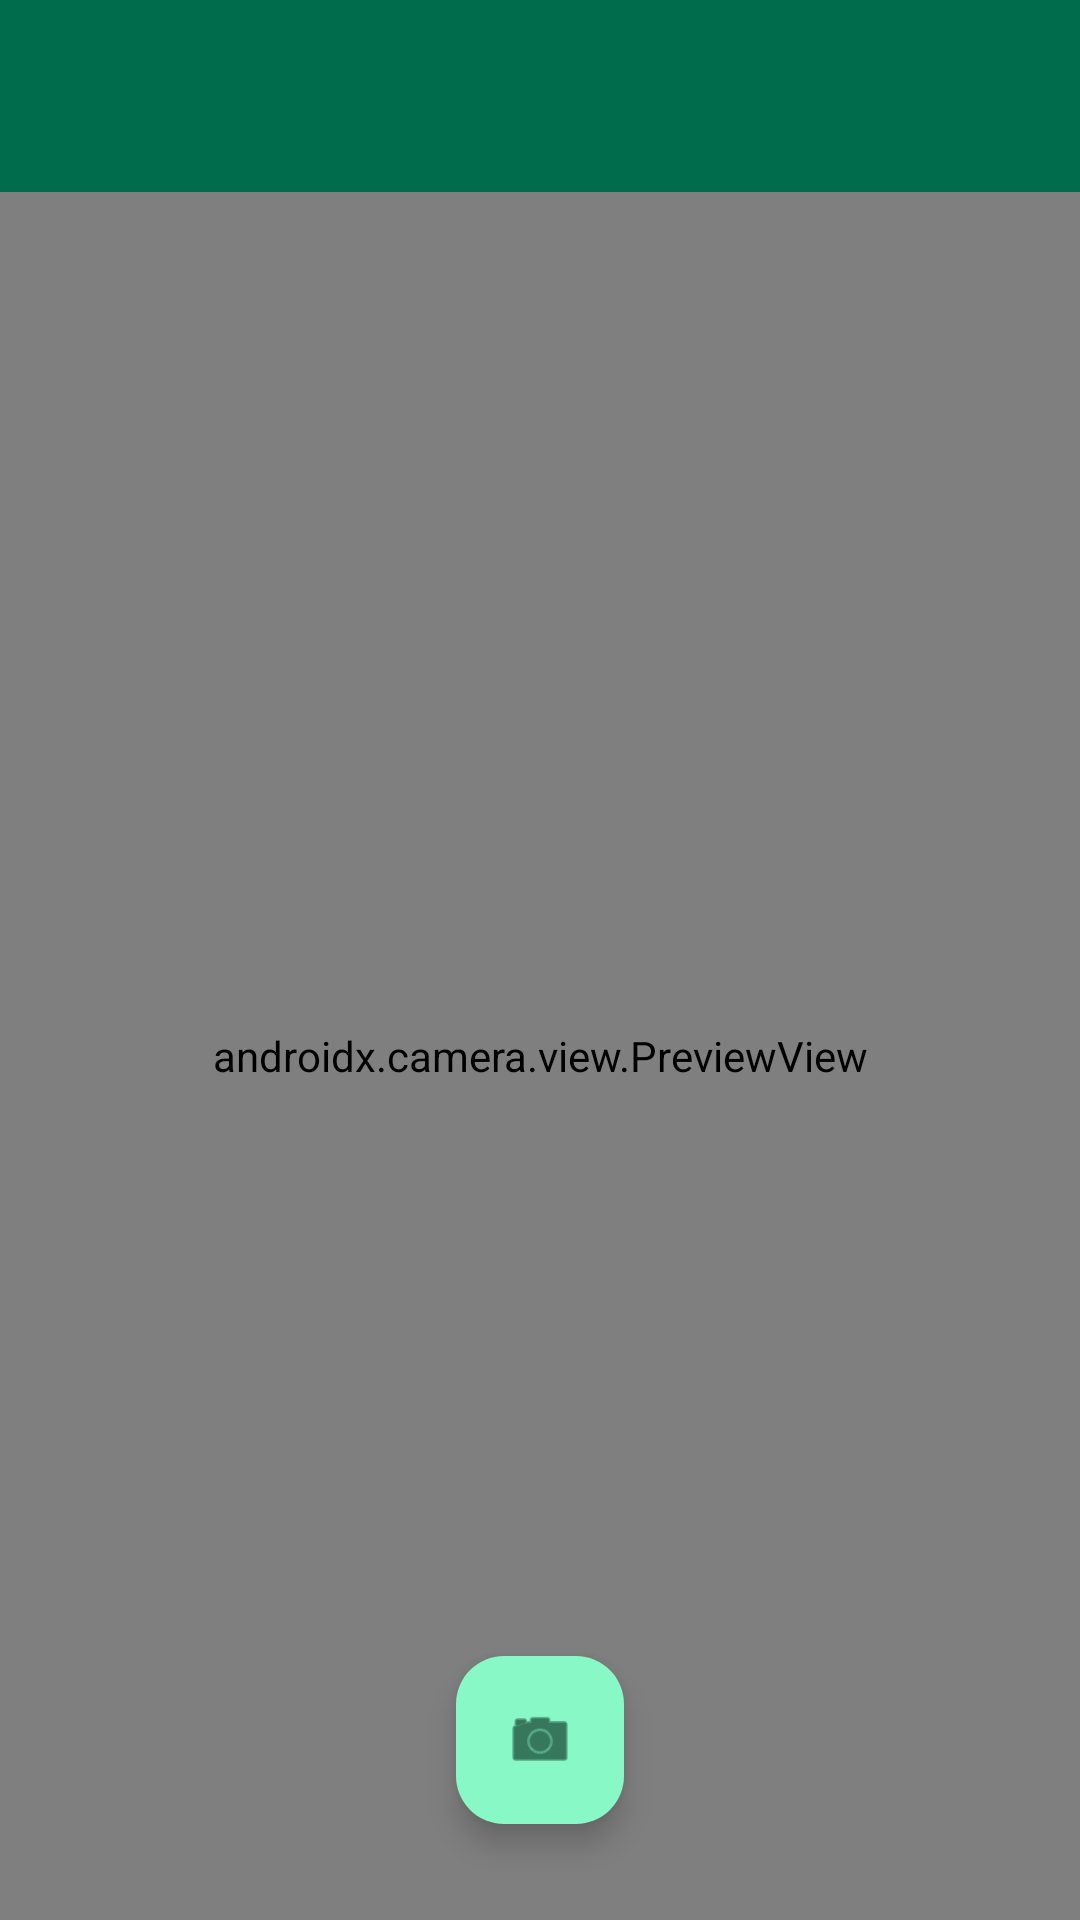

Where to tap for icons on this 1080×1920 app screen, as [x,y]:
Capture: [540,1740]
